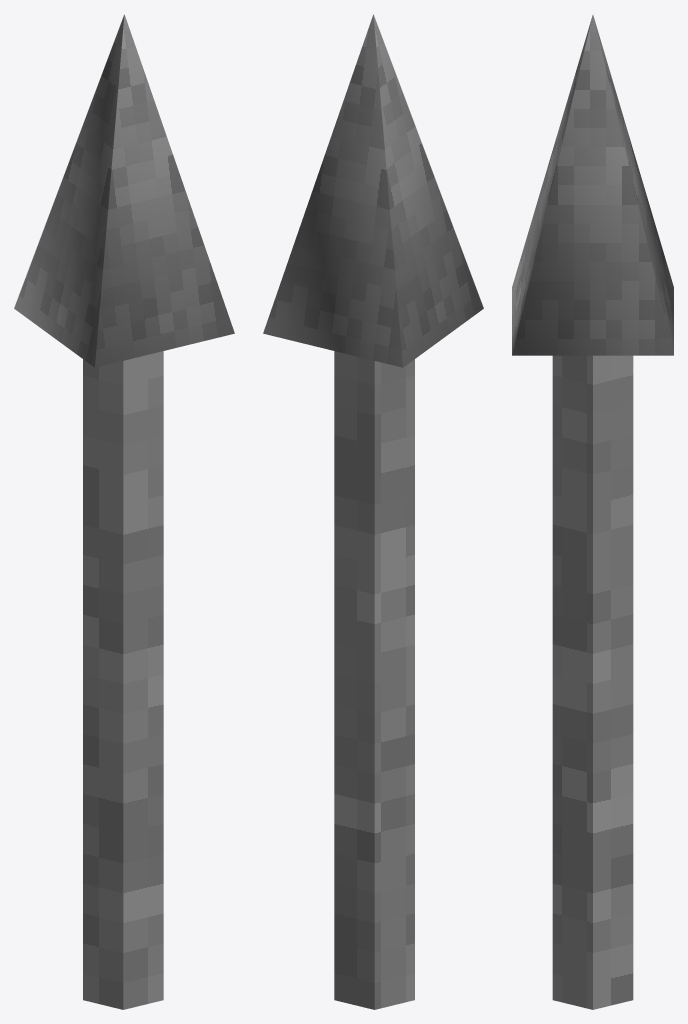
The model's file is Spear.glb.
3 views of the same model, side by side, from view 1: azimuth 30°, elevation 25°; view 2: azimuth 150°, elevation 25°; view 3: azimuth 270°, elevation 25° (orthographic).
Visible parts, largest first — view 1: Handle, Head; view 2: Handle, Head; view 3: Handle, Head.
Part boxes in pixels (box(x1,y1,x2,y2)): Handle: box(83, 351, 163, 1009); Head: box(14, 14, 234, 367); Handle: box(334, 351, 414, 1009); Head: box(263, 14, 483, 367); Handle: box(552, 355, 633, 1009); Head: box(512, 15, 673, 355).
Size of the model in its own units: 0.1503 by 1 by 0.1503.
Materials: 1 (1 with a texture image).
